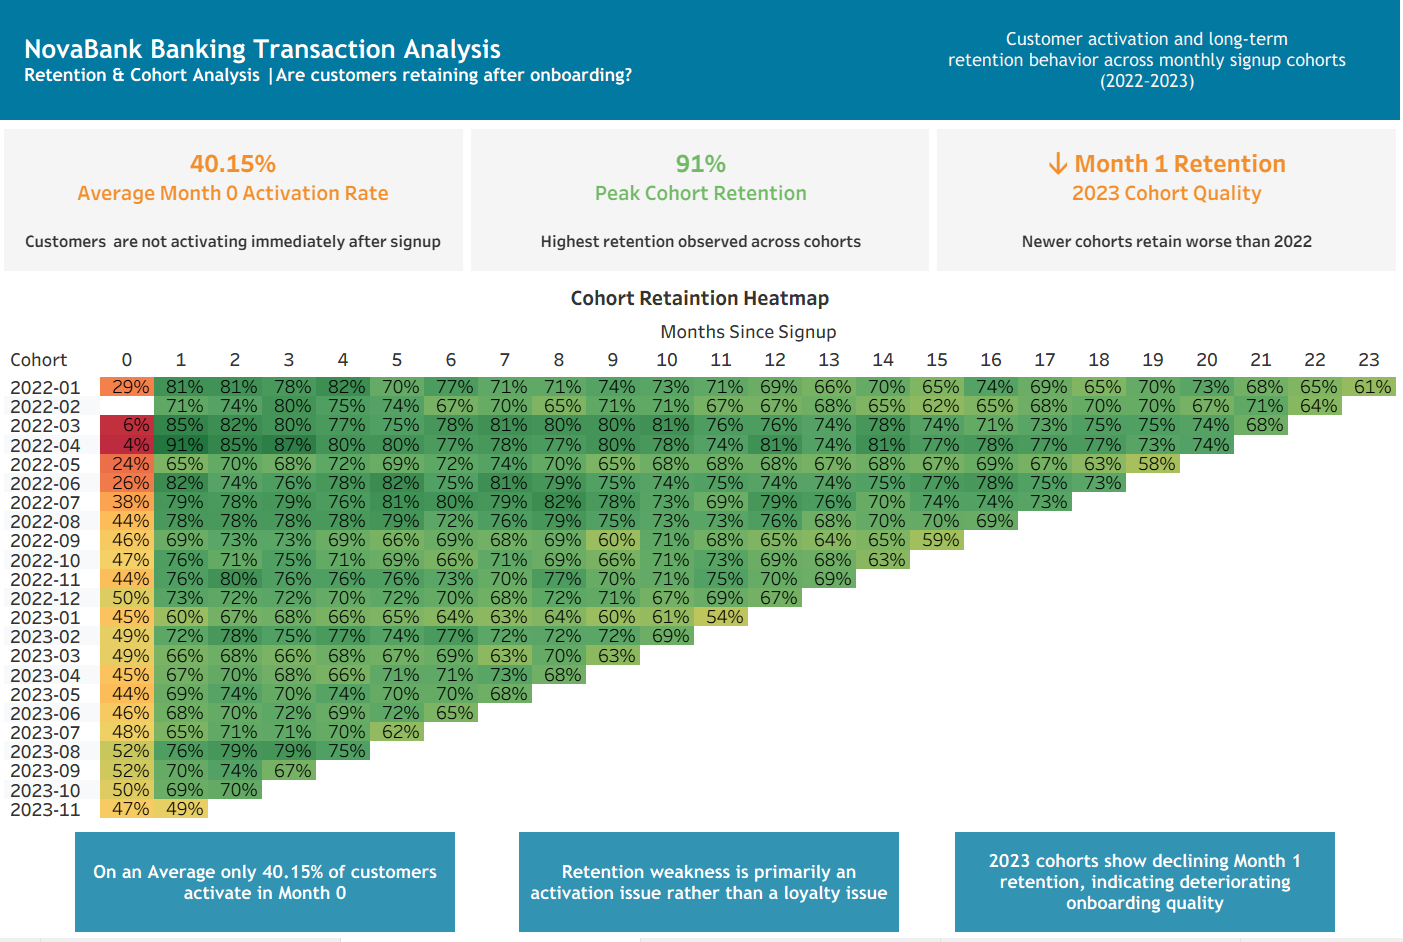

The dashboard page shown, as its layout file describes it:
{"tool":"tableau","page":{"name":"Dashboard 3: Retaintion & Cohort Analysis ","canvas":[1400,900],"ordinal":2},"visuals":[{"type":"text","box":[16,16,894,93]},{"type":"text","box":[910,16,474,93]},{"type":"worksheet","title":"KPI 1 — Month 0 Activation Rate","mark":"Automatic","box":[0,125,466.7,150]},{"type":"worksheet","title":"KPI 2 — Best Cohort Retention","mark":"Automatic","box":[466.7,125,466.7,150]},{"type":"worksheet","title":"KPI 3 — 2023 Cohort Deterioration","mark":"Automatic","box":[933.3,125,466.7,150]},{"type":"worksheet","title":"Cohort Retaintion Heatmap","mark":"Square","rows":["cohort"],"cols":["months_since_signup"],"box":[0,275,1400,547]}]}

Visuals, with their boxes on the page's 1400x900 design canvas (x1, y1, x2, y2). These are canvas units, not pixel positions in the 1403x942 screenshot, which may show the page scaled, cropped or inside an application window:
text: (16,16,910,109)
text: (910,16,1384,109)
"KPI 1 — Month 0 Activation Rate" worksheet: (0,125,467,275)
"KPI 2 — Best Cohort Retention" worksheet: (467,125,933,275)
"KPI 3 — 2023 Cohort Deterioration" worksheet: (933,125,1400,275)
"Cohort Retaintion Heatmap" worksheet (Square marks): (0,275,1400,822)
